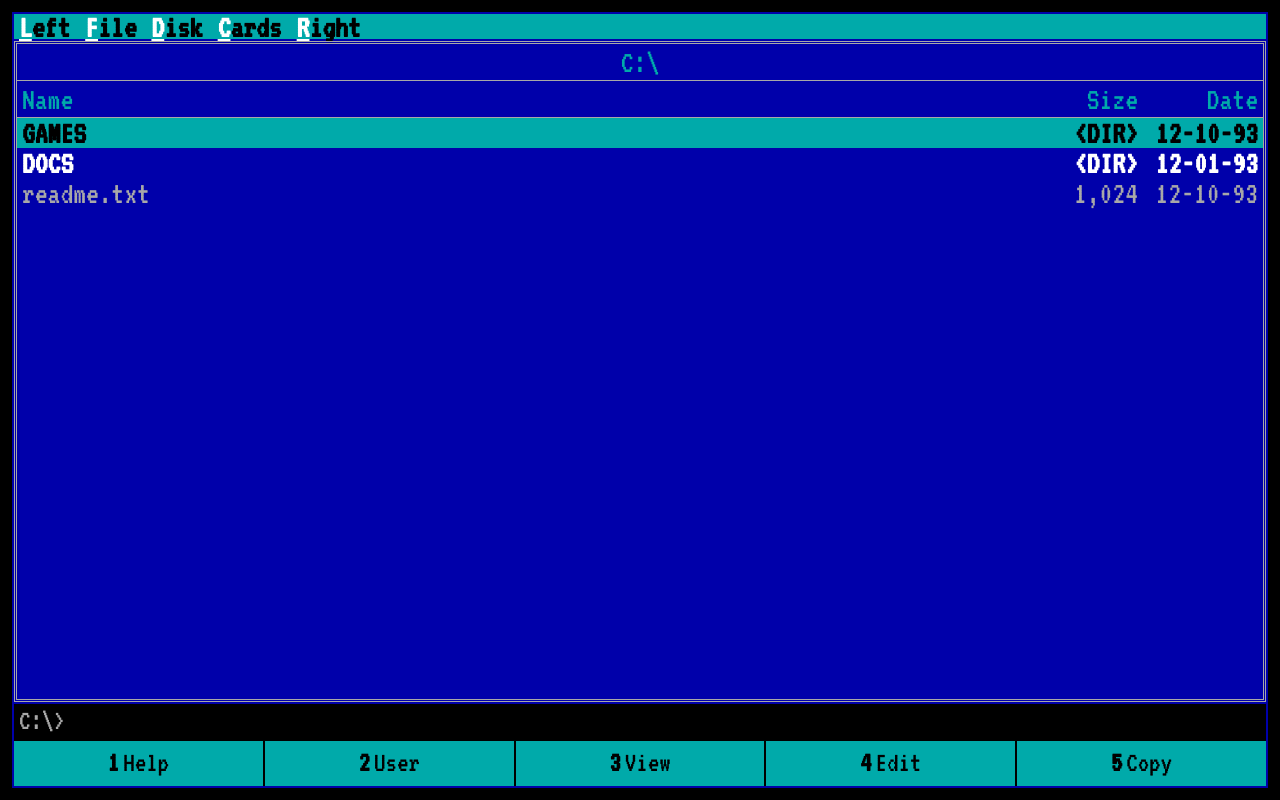
App › updates the prompt input with the selected file name in lowercase
Click the button "readme.txt 1,024 12-10-93".
click(86, 193)  # box [17,178,1263,208]
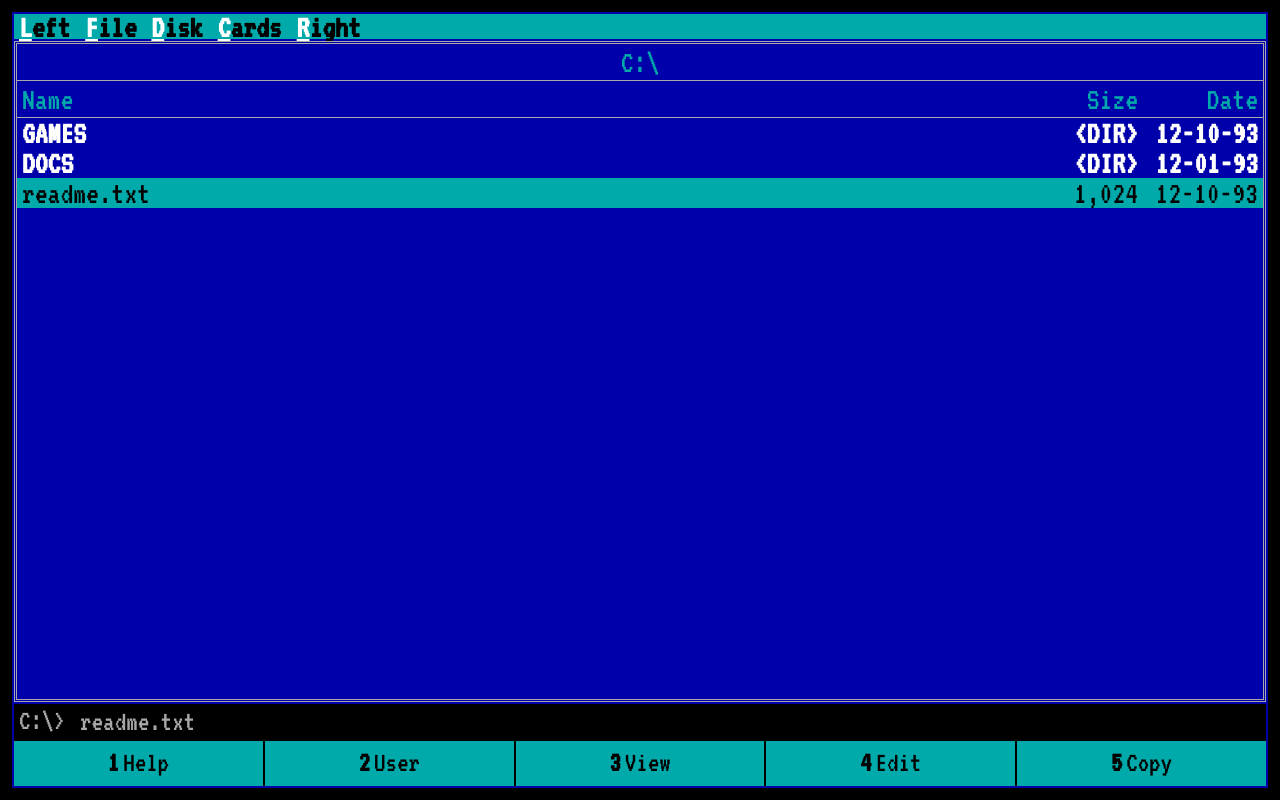
Expected: the field holds "readme.txt", [78,706,1261,737]
